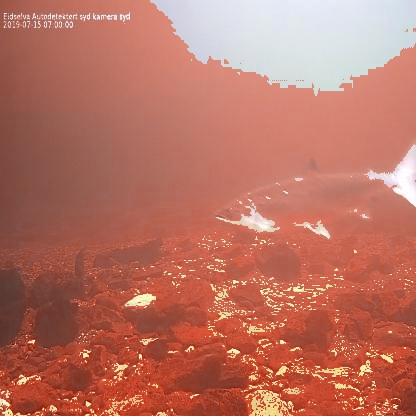salmon: (213, 136, 415, 242)
